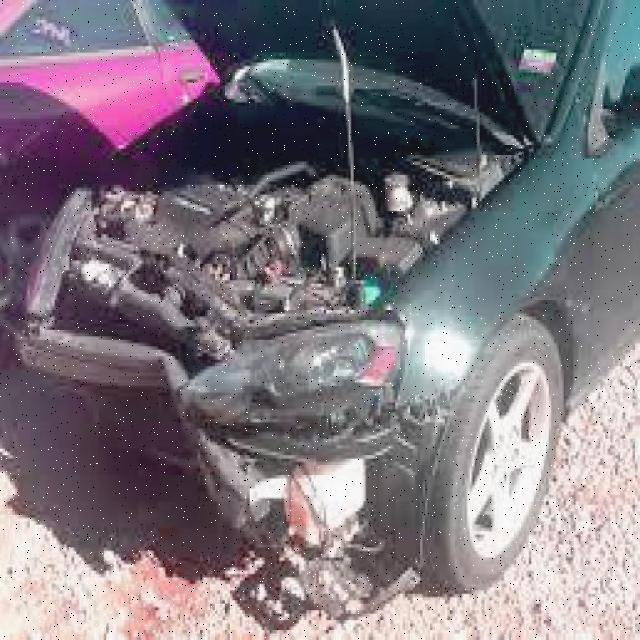car damage: (22, 186, 464, 619)
